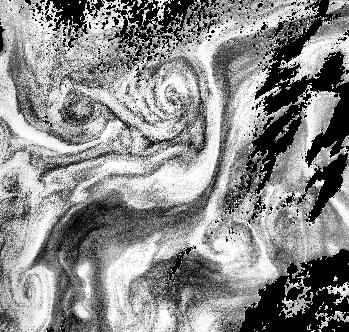CE: (135, 57, 204, 128), (53, 81, 105, 135), (11, 264, 56, 314)
